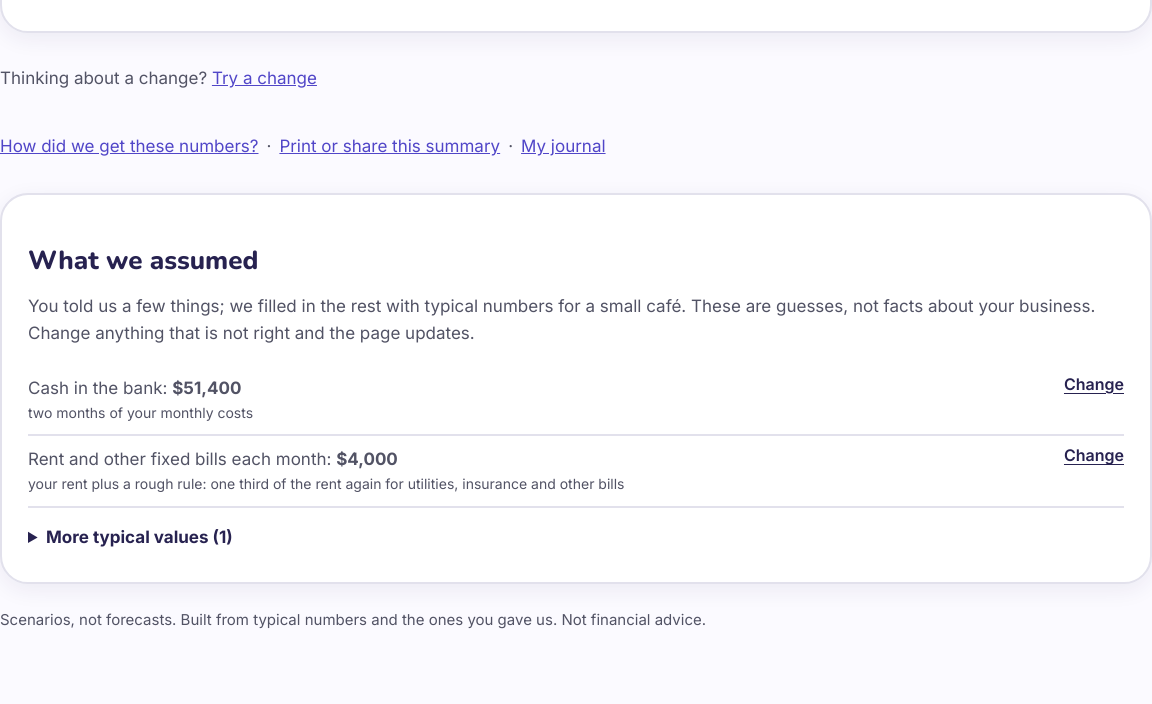
Test: Today: what we assumed › does not save nonsense and says why
(page scrolled)
Click the button with aria-label "Change Cash in the bank": (1094, 384) [1064,374,1124,394]
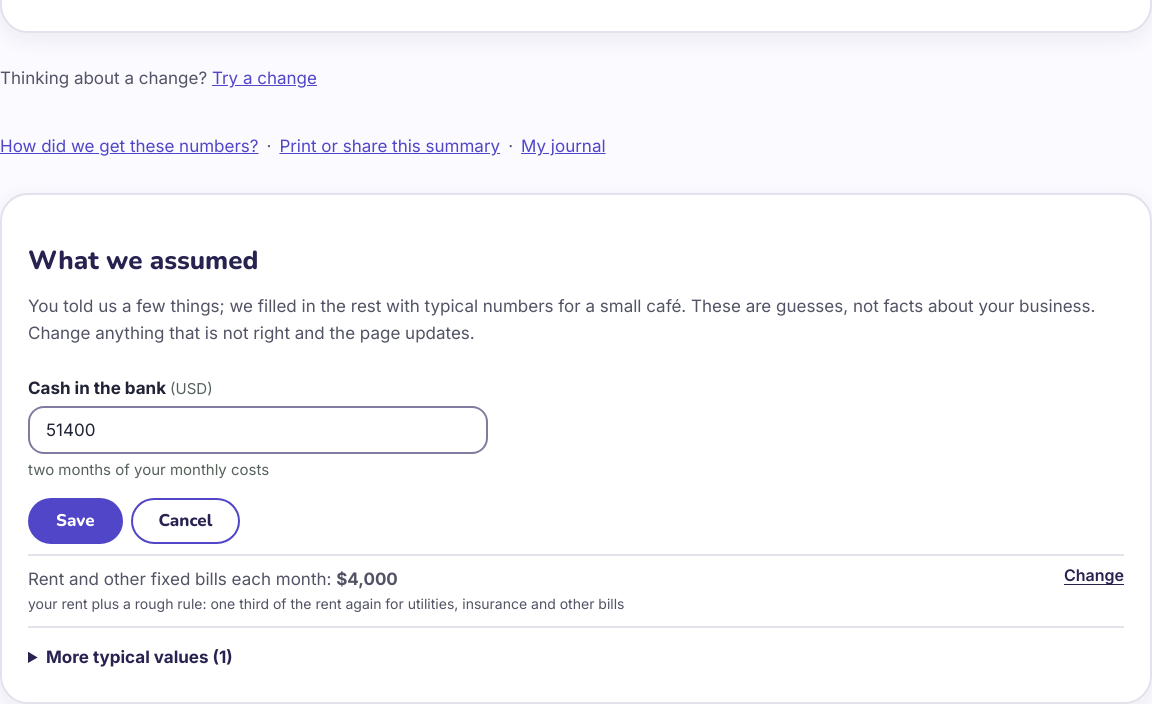
Clear the field labelled "Cash in the bank (USD)": (258, 430) [28,406,488,454]
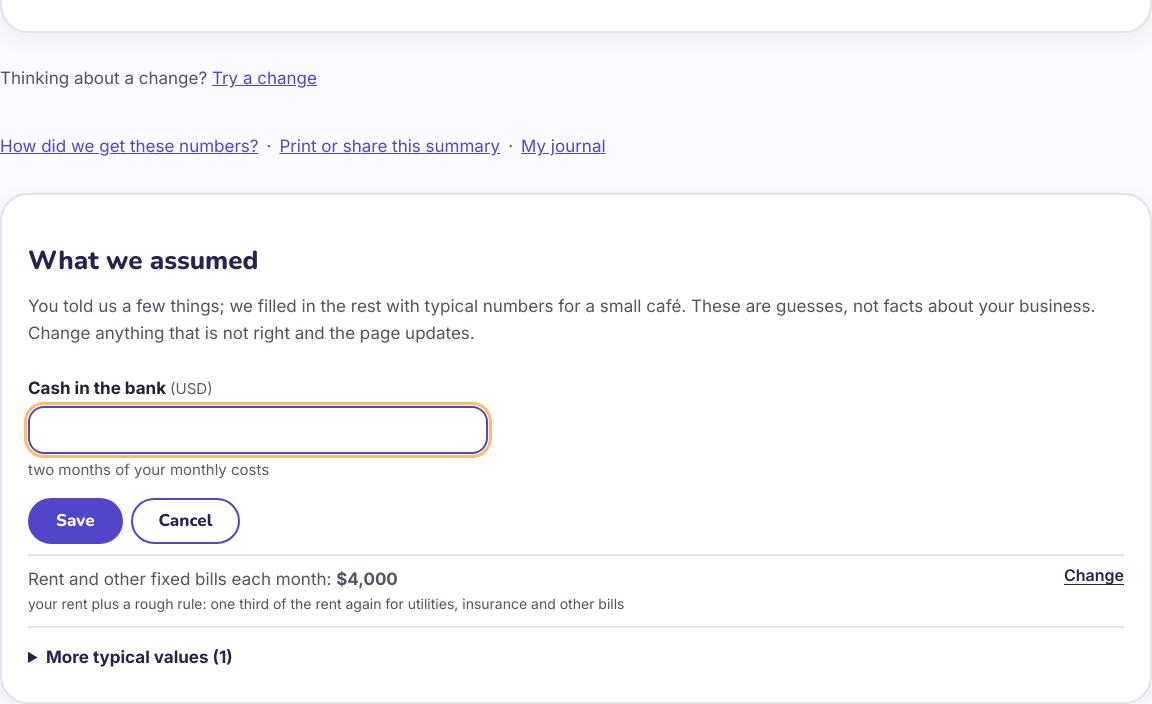
Click the button "Save": (75, 521) [28,498,122,544]
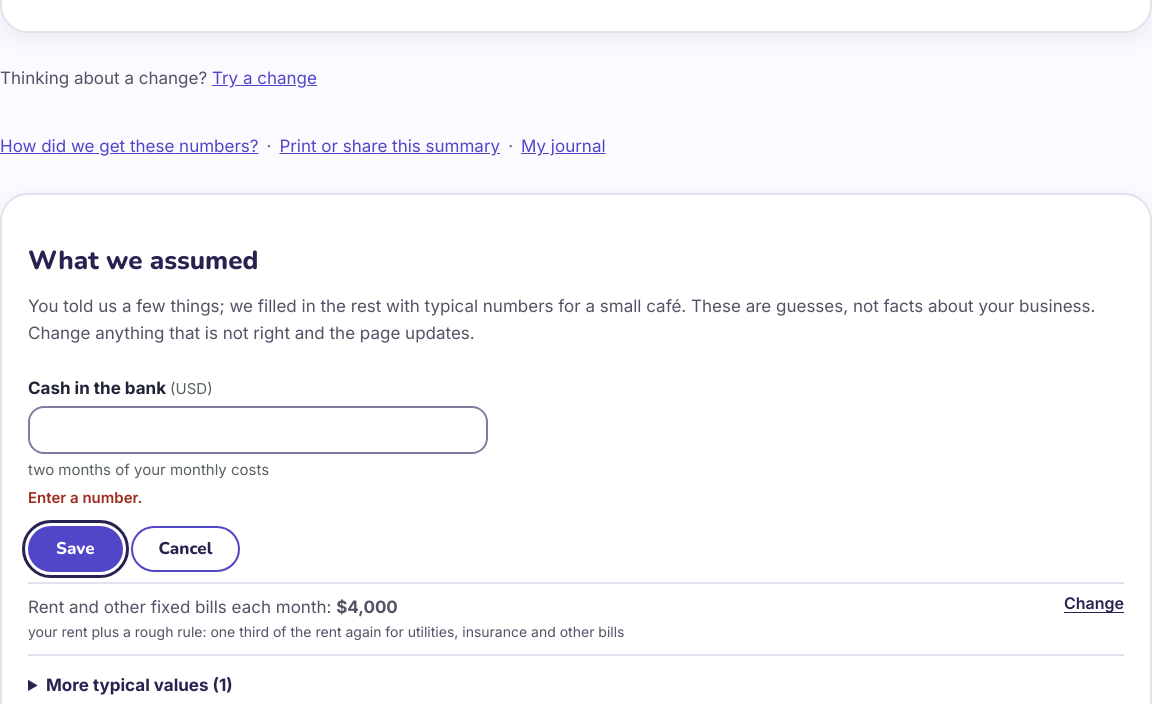
Now the text "Enter a number." is shown, box [28,488,142,507]
